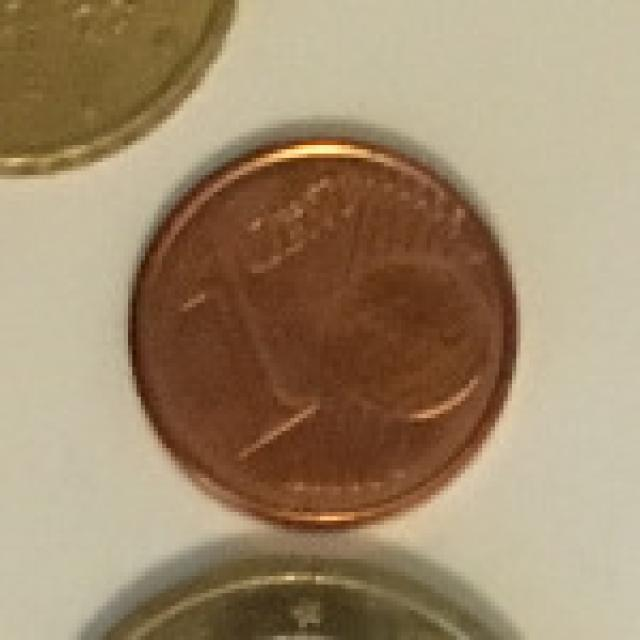1c: (102, 122, 550, 546)
